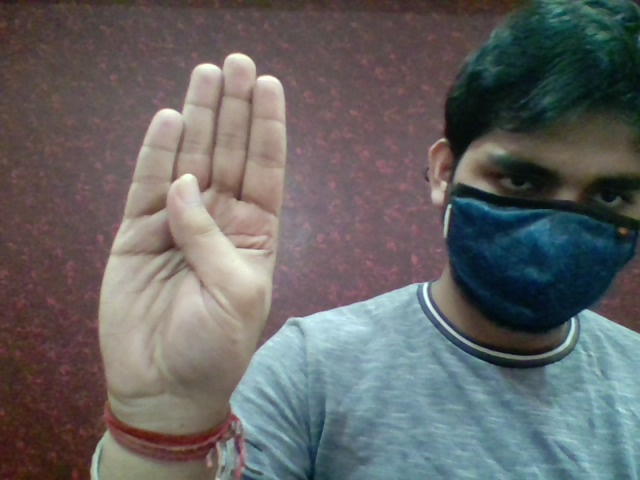b: (87, 43, 293, 417)
